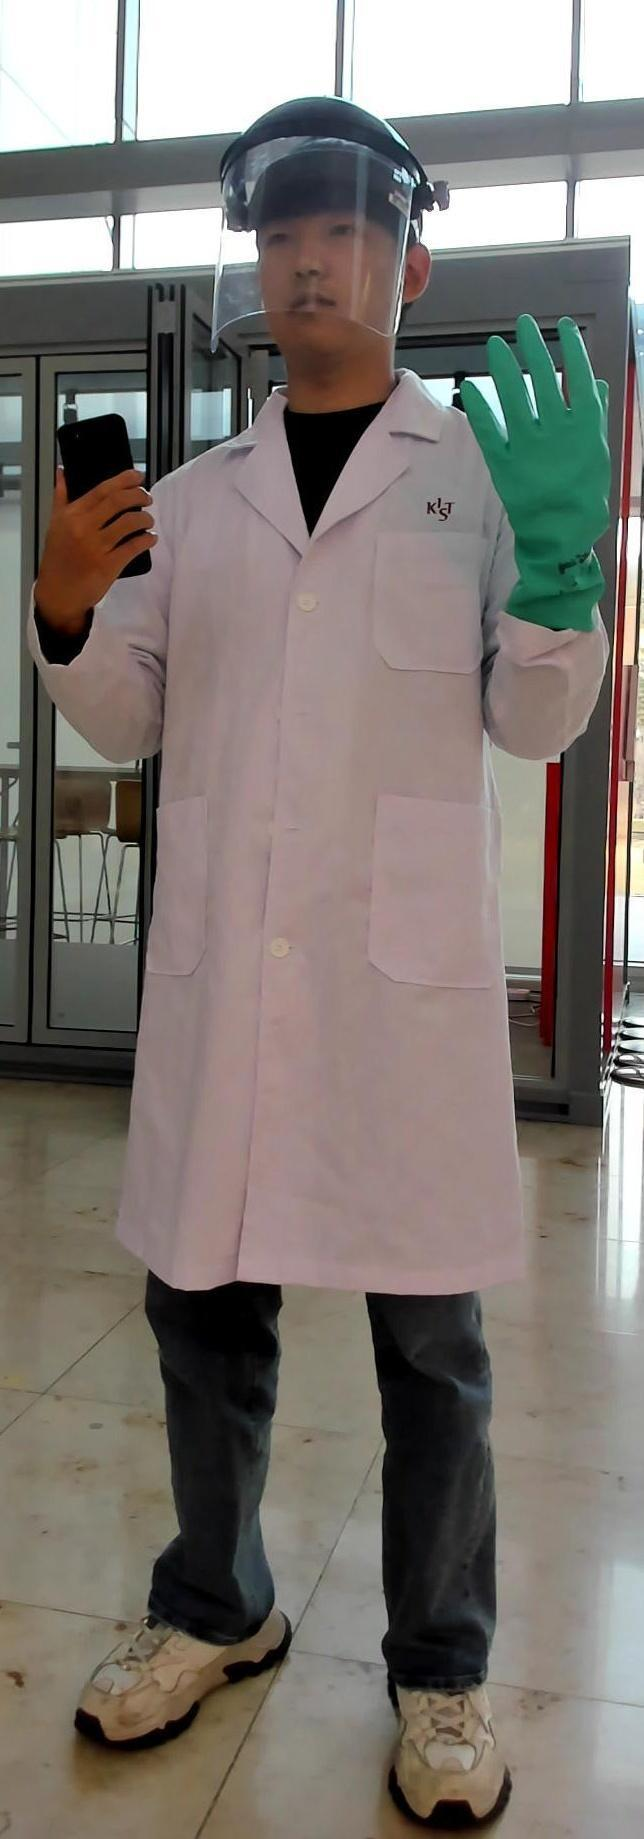lab_coat: (161, 387, 482, 1277)
